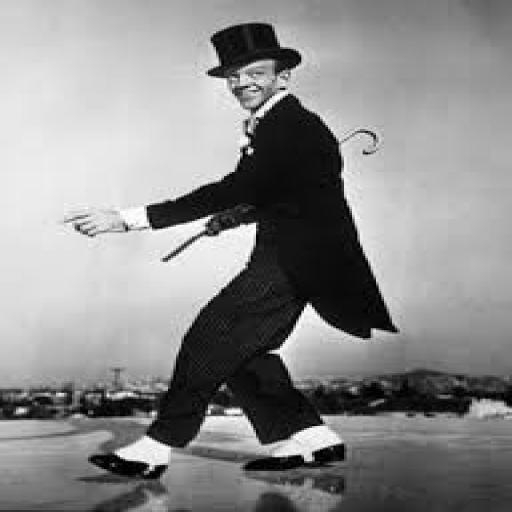dancing: (61, 20, 403, 482)
